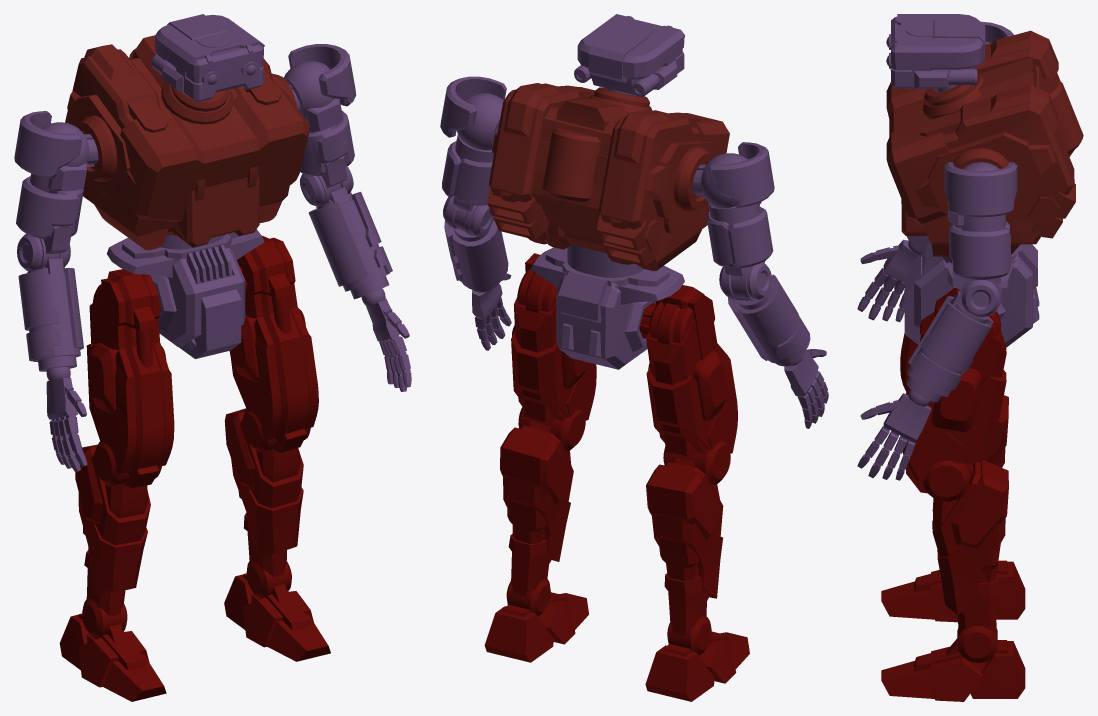
Rendered from rob.fbx.
The picture shows the model from 3 angles, left to right: view 1: azimuth 30°, elevation 25°; view 2: azimuth 150°, elevation 25°; view 3: azimuth 270°, elevation 25°; orthographic projection. The views are drawn at different scales.
Parts seen in each view (by area): view 1: 1001, 1004, 1004.001, 1003, 1003.001, 1002, 1002.001; view 2: 1001, 1004, 1004.001, 1003, 1003.001, 1002, 1002.001; view 3: 1001, 1004.001, 1003.001, 1002.001, 1002, 1004, 1003.
Part boxes in pixels (left/top/right/bottom): 1001: left=65, top=35, right=310, bottom=250; 1004: left=59, top=269, right=174, bottom=701; 1004.001: left=224, top=235, right=330, bottom=661; 1003: left=14, top=111, right=98, bottom=471; 1003.001: left=284, top=44, right=411, bottom=391; 1002: left=106, top=229, right=264, bottom=358; 1002.001: left=151, top=14, right=264, bottom=102; 1001: left=487, top=83, right=729, bottom=271; 1004: left=639, top=285, right=749, bottom=701; 1004.001: left=484, top=251, right=596, bottom=662; 1003: left=692, top=142, right=828, bottom=428; 1003.001: left=440, top=76, right=511, bottom=350; 1002: left=530, top=244, right=684, bottom=369; 1002.001: left=574, top=14, right=685, bottom=96; 1001: left=886, top=30, right=1083, bottom=256; 1004.001: left=881, top=288, right=1025, bottom=701; 1003.001: left=857, top=162, right=1017, bottom=480; 1002.001: left=886, top=14, right=985, bottom=91; 1002: left=904, top=242, right=1039, bottom=347; 1004: left=881, top=333, right=1025, bottom=622; 1003: left=857, top=21, right=1013, bottom=321.
Size of the model in its own units: 10494 by 17568 by 5807.
